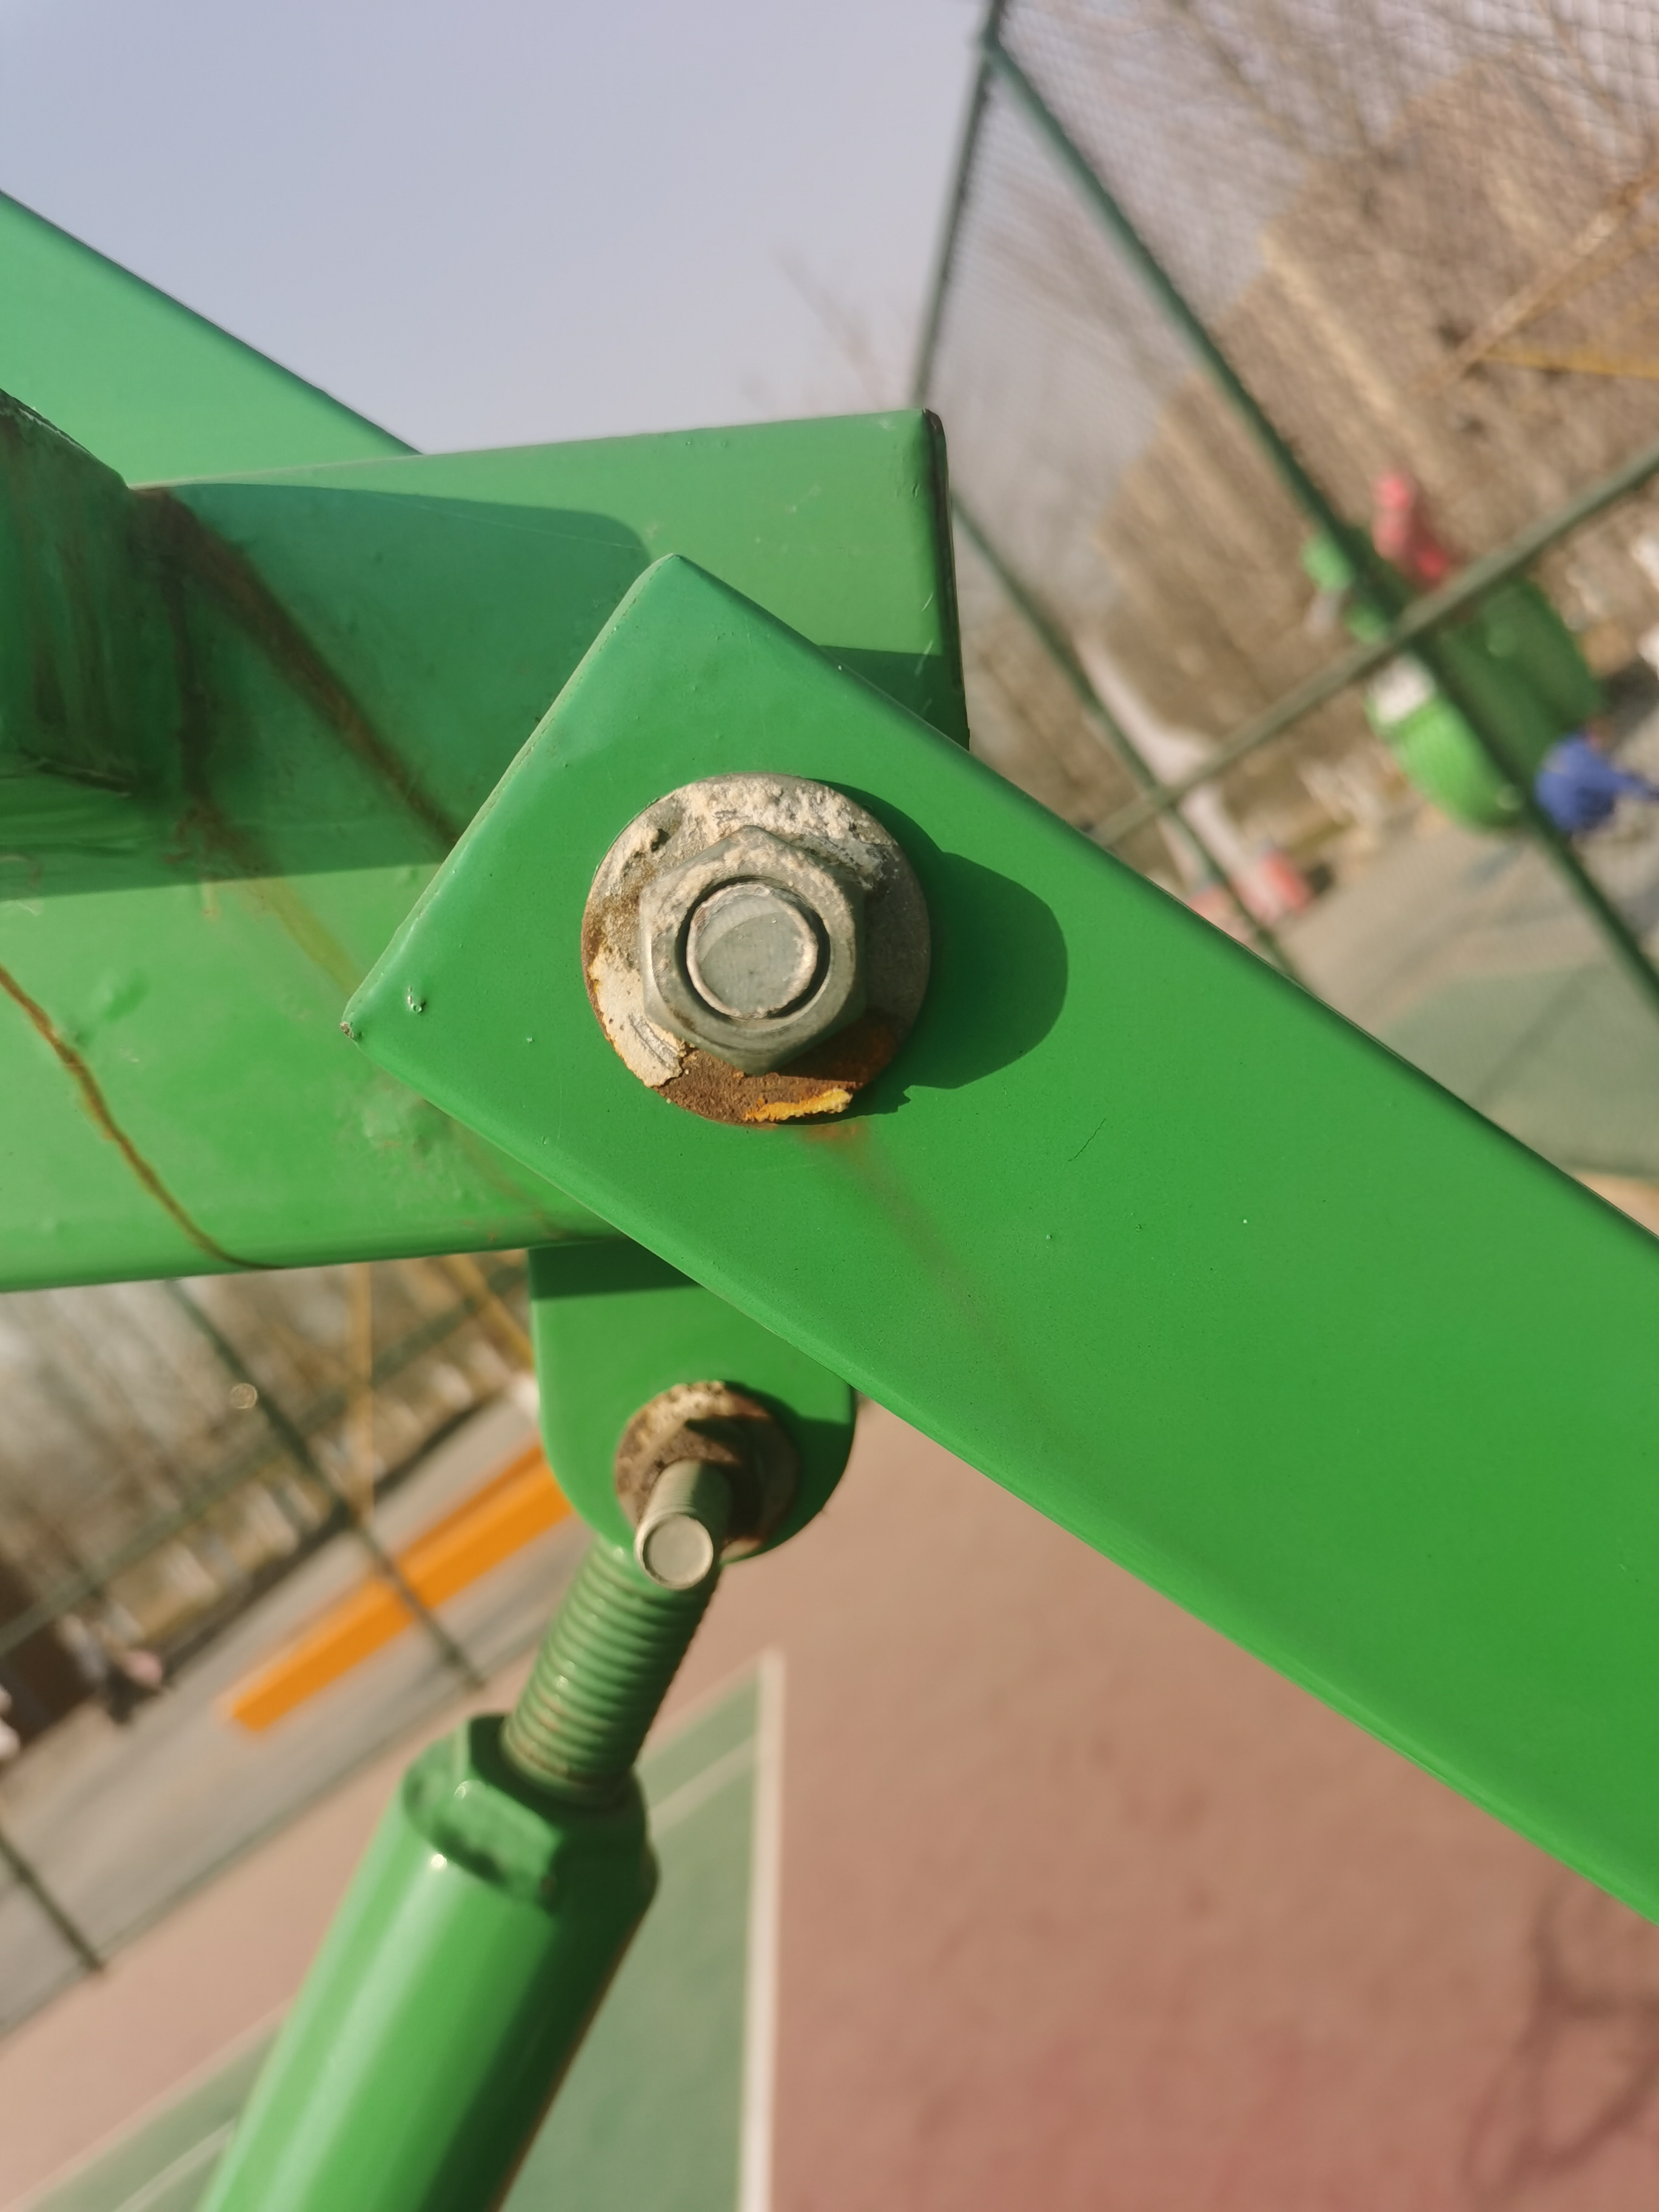bolt_b: (626, 815, 873, 1085)
vague: (617, 1413, 774, 1564)
